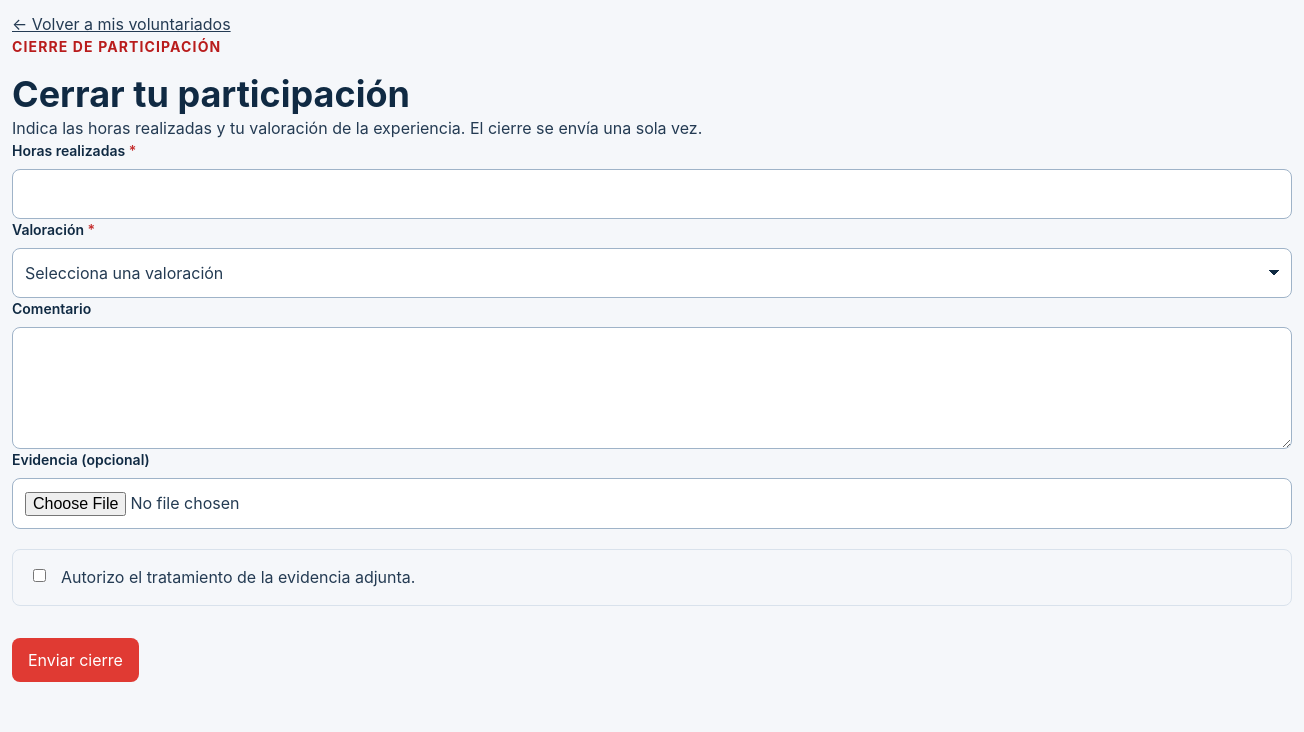
it: employee closure page › shows the error codes of the closure contract when submission fails
The image size is (1304, 732).
In the number field labelled "Horas realizadas *": {"x": 652, "y": 194} [12, 169, 1292, 219], type "6"
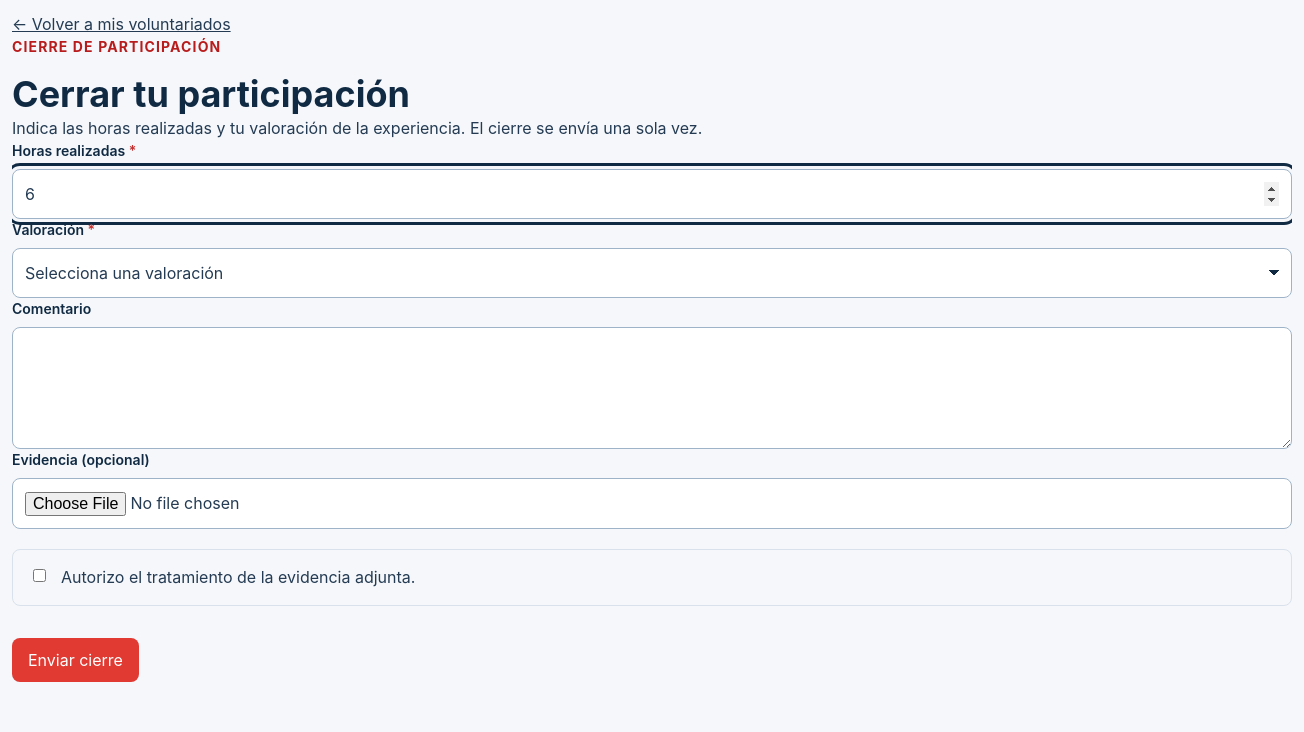
Select "5" in the dropdown labelled "Valoración *": {"x": 652, "y": 273} [12, 248, 1292, 298]
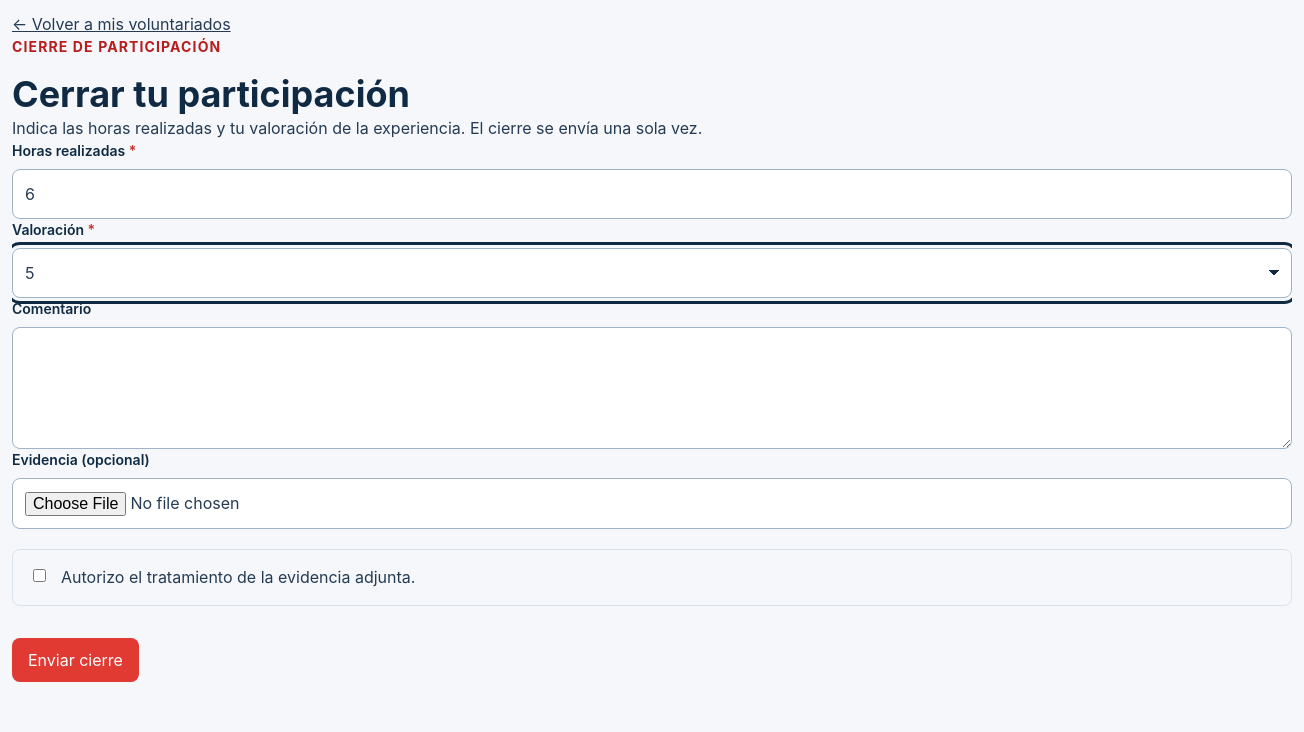
Click the button "Enviar cierre": {"x": 75, "y": 660} [12, 638, 139, 682]
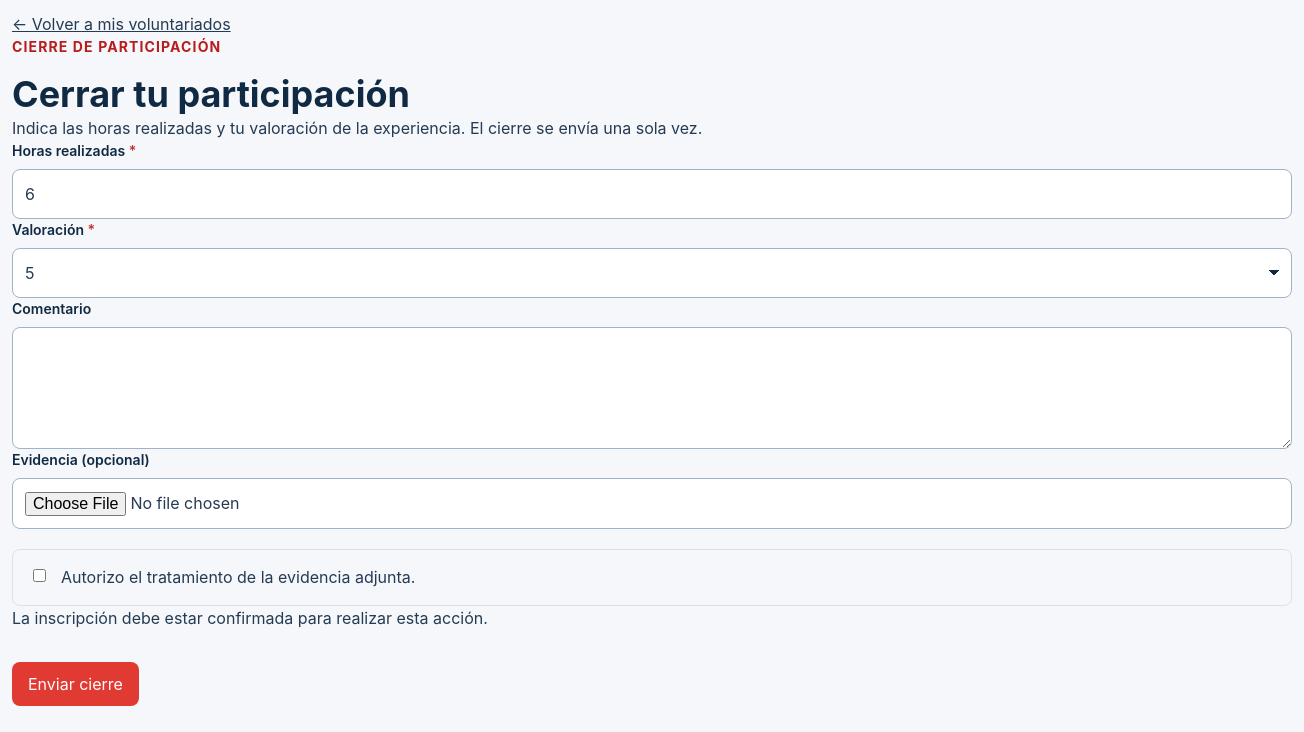
Check: the message shows "debe estar confirmada", box [12, 608, 488, 628]
